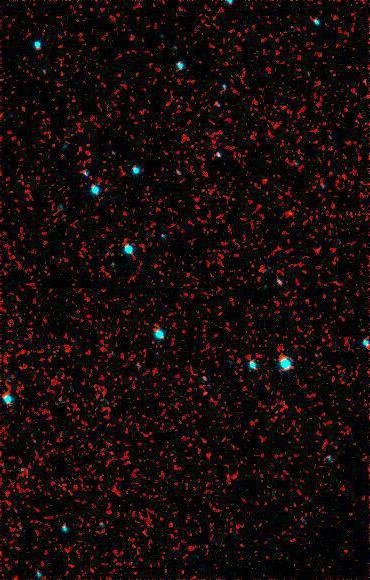star: (275, 199, 305, 229)
